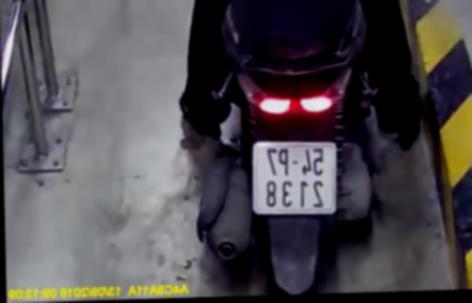License_Plate: (243, 137, 341, 220)
